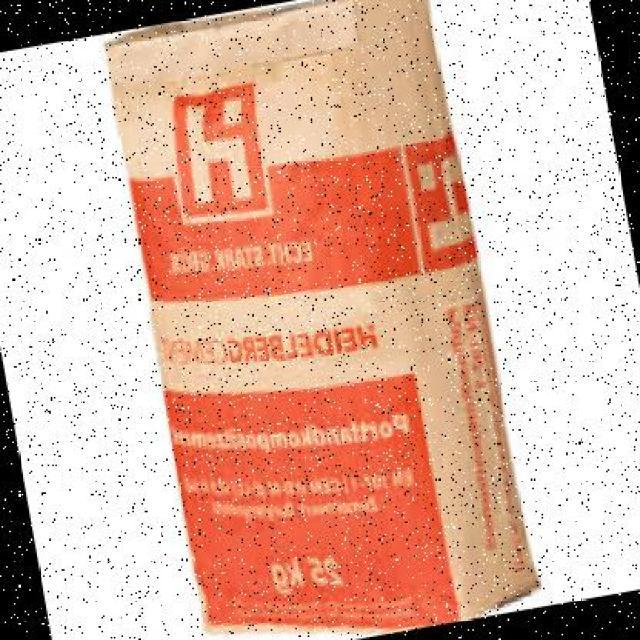gunny_bag: (103, 0, 536, 633)
